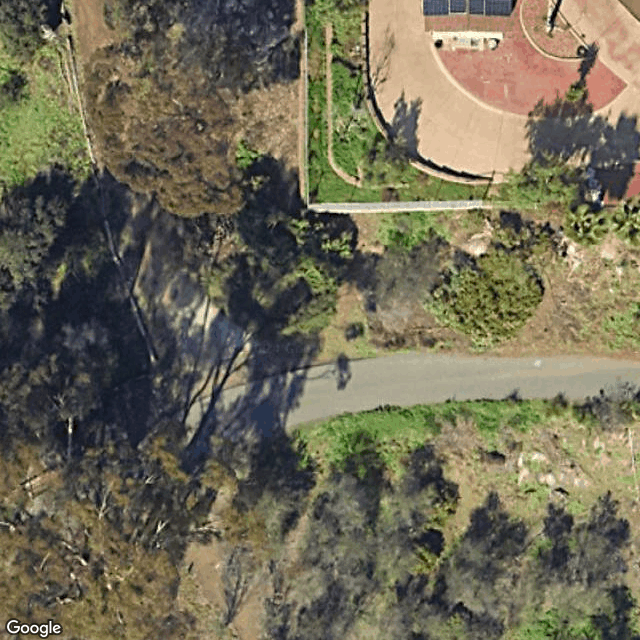palm: (557, 199, 613, 250)
